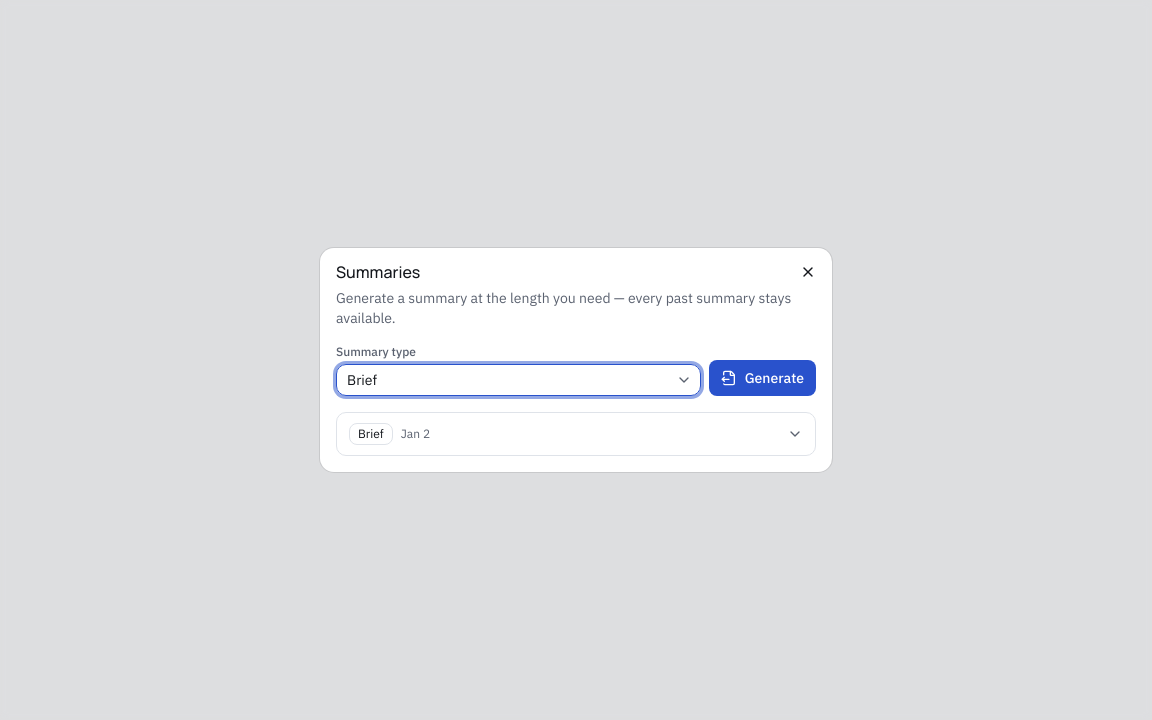
Test: SummaryDialog — FR-SUM-001, FR-SUM-002 › lists past summaries, newest first, and expands one to show completed content
What coordinates should you click on to do the following:
click the button with aria-label "expand brief summary"
I would click on:
 (371, 434)
Its box is [337, 413, 815, 455].
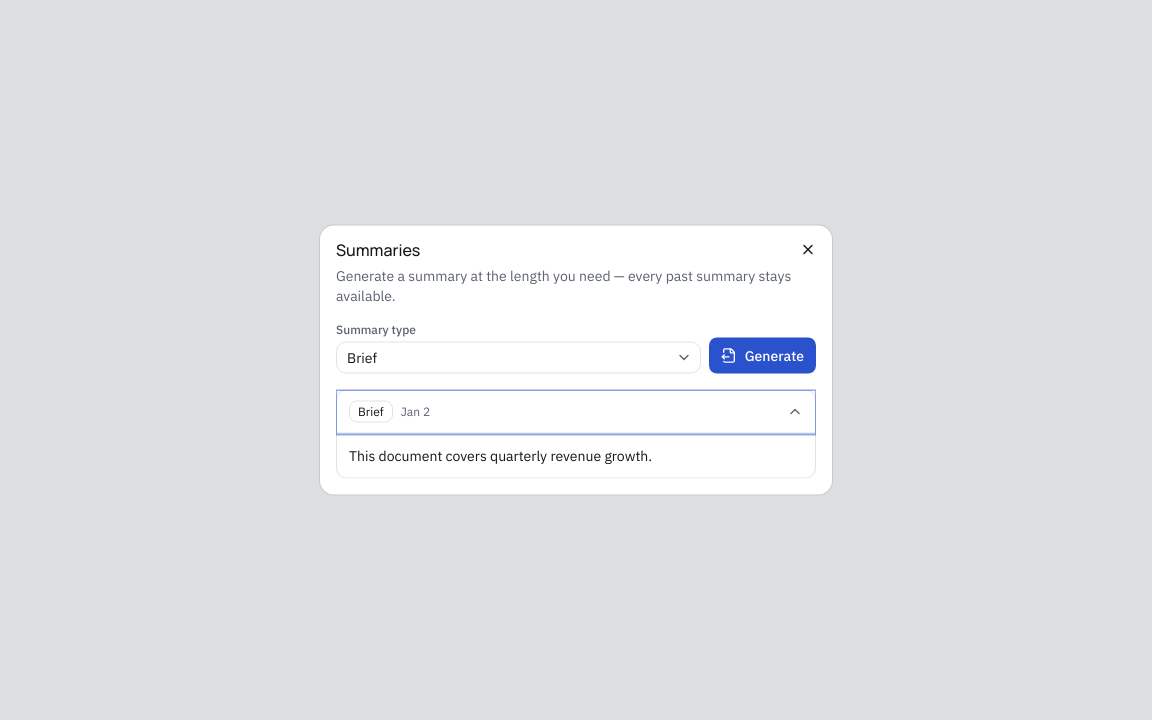
Check: the text "This document covers quarterly revenue growth." is shown, box [349, 446, 652, 464]
